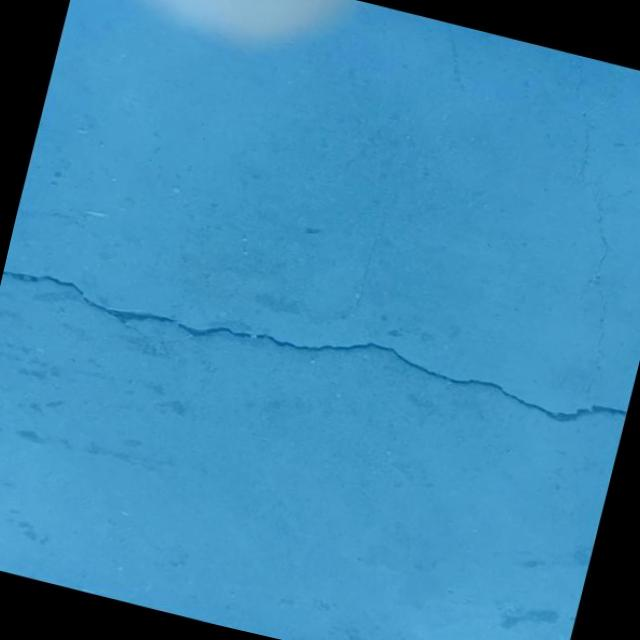crack: (0, 250, 631, 455), (580, 290, 618, 369), (586, 215, 616, 272), (570, 112, 598, 171), (585, 382, 594, 401)
